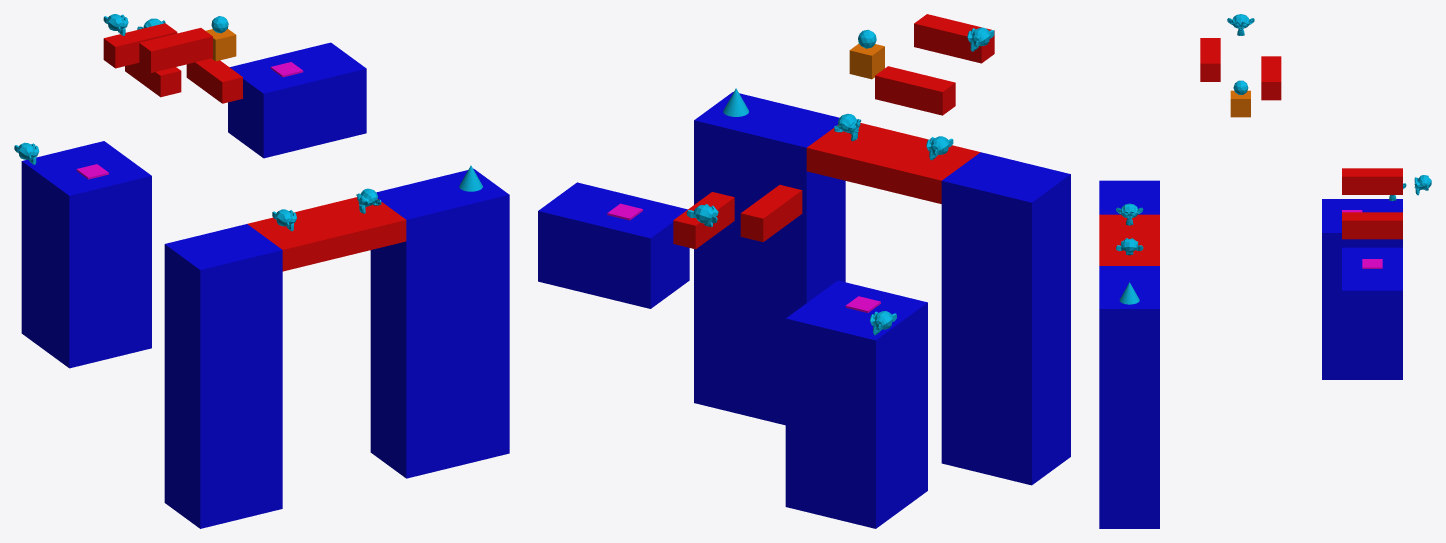
3 views of the same model, side by side, from view 1: azimuth 30°, elevation 25°; view 2: azimuth 150°, elevation 25°; view 3: azimuth 270°, elevation 25° (orthographic). The views are drawn at different scales.
Parts seen in each view (by area): view 1: Cube.000, Cube.078, Cube.441, Cube.369, Cube.019, Cube.361, Cube.378, Cube.358, Cube.381, Cube.460; view 2: Cube.078, Cube.000, Cube.441, Cube.369, Cube.019, Cube.358, Cube.361, Cube.381, Cube.378, Cube.460; view 3: Cube.000, Cube.441, Cube.369, Cube.019, Cube.078, Cube.378, Cube.381, Cube.358, Cube.361, Cube.460.
Part boxes in pixels (x1,y1,x2,y2): Cube.000: [370, 168, 509, 478]; Cube.078: [164, 224, 282, 528]; Cube.441: [21, 141, 151, 368]; Cube.369: [228, 42, 366, 158]; Cube.019: [247, 197, 406, 271]; Cube.361: [139, 28, 212, 72]; Cube.378: [186, 58, 242, 103]; Cube.358: [103, 23, 177, 68]; Cube.381: [125, 63, 181, 97]; Cube.460: [205, 29, 236, 61]; Cube.078: [941, 152, 1070, 485]; Cube.000: [694, 92, 845, 425]; Cube.441: [785, 280, 927, 528]; Cube.369: [538, 182, 689, 308]; Cube.019: [806, 123, 980, 203]; Cube.358: [875, 66, 955, 115]; Cube.361: [914, 14, 994, 63]; Cube.381: [740, 185, 802, 241]; Cube.378: [673, 192, 734, 249]; Cube.460: [849, 43, 884, 79]; Cube.000: [1099, 266, 1159, 528]; Cube.441: [1322, 199, 1402, 379]; Cube.369: [1342, 247, 1402, 345]; Cube.019: [1099, 214, 1159, 265]; Cube.078: [1099, 180, 1159, 214]; Cube.378: [1342, 212, 1402, 239]; Cube.381: [1342, 168, 1402, 194]; Cube.358: [1261, 56, 1281, 100]; Cube.361: [1200, 38, 1220, 81]; Cube.460: [1230, 90, 1250, 117].
Bounding box in the file's own units: 3085 × 4198 × 3285.
